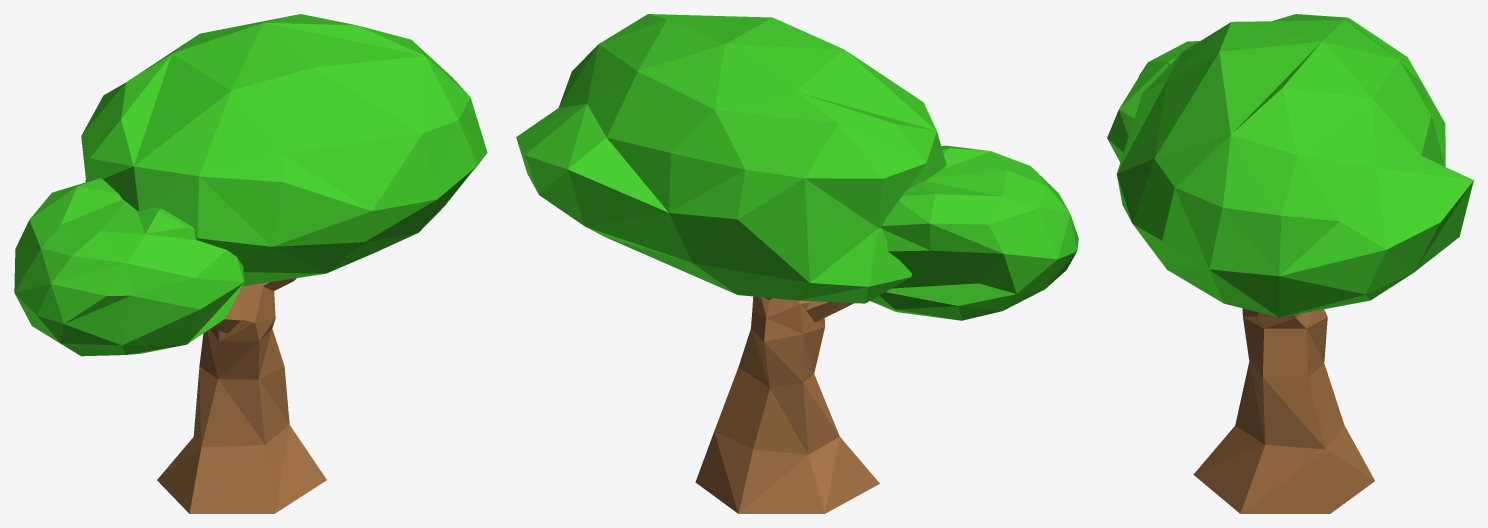
The model's file is tree2.fbx.
The picture shows the model from 3 angles, left to right: view 1: azimuth 30°, elevation 25°; view 2: azimuth 150°, elevation 25°; view 3: azimuth 270°, elevation 25°; orthographic projection. The views are drawn at different scales.
Visible parts, largest first — view 1: tree2; view 2: tree2; view 3: tree2.
Boxes of the visible parts, box(x1,y1,x2,y2) form: tree2: box(14, 14, 487, 513); tree2: box(516, 14, 1078, 513); tree2: box(1107, 14, 1473, 513).
Bounding box in the file's own units: 4.25 × 3.76 × 2.72.
